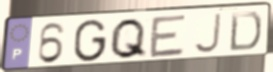6: (36, 21, 67, 65)
D: (227, 10, 263, 53)
E: (148, 13, 189, 60)
G: (71, 18, 109, 64)
J: (191, 12, 223, 55)
Q: (107, 17, 149, 61)
